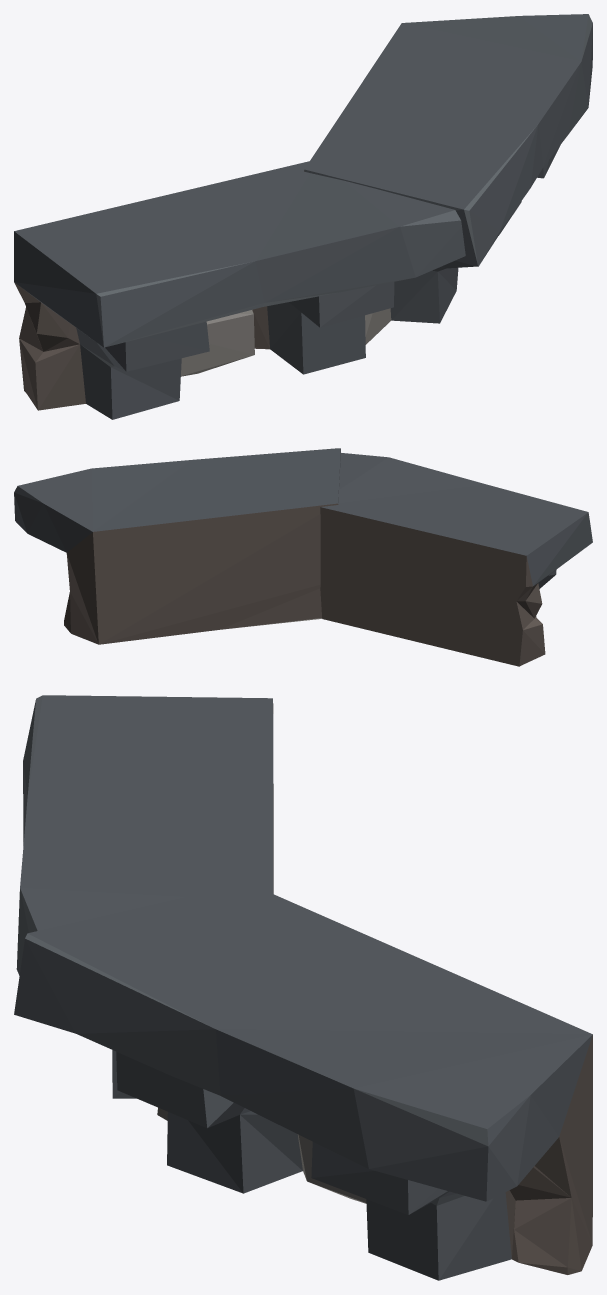
File: MCastle_Masonry_Corbel_05.FBX
3 views of the same model, one above another, from view 1: azimuth 30°, elevation 25°; view 2: azimuth 150°, elevation 25°; view 3: azimuth 270°, elevation 25° (orthographic). The views are drawn at different scales.
Visible parts, largest first — view 1: MCastle_Masonry_Corbel_05_LOD0; view 2: MCastle_Masonry_Corbel_05_LOD0; view 3: MCastle_Masonry_Corbel_05_LOD0.
Part boxes in pixels (<box>): MCastle_Masonry_Corbel_05_LOD0: <box>14,14,592,419</box>; MCastle_Masonry_Corbel_05_LOD0: <box>14,448,592,666</box>; MCastle_Masonry_Corbel_05_LOD0: <box>14,695,592,1280</box>.
Size of what is drawn, in the model's own units: 5.11 by 1.23 by 2.86.
